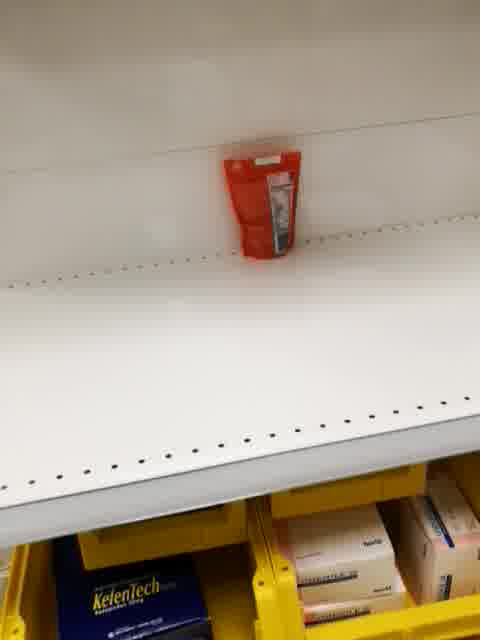whitechia: (223, 148, 306, 261)
